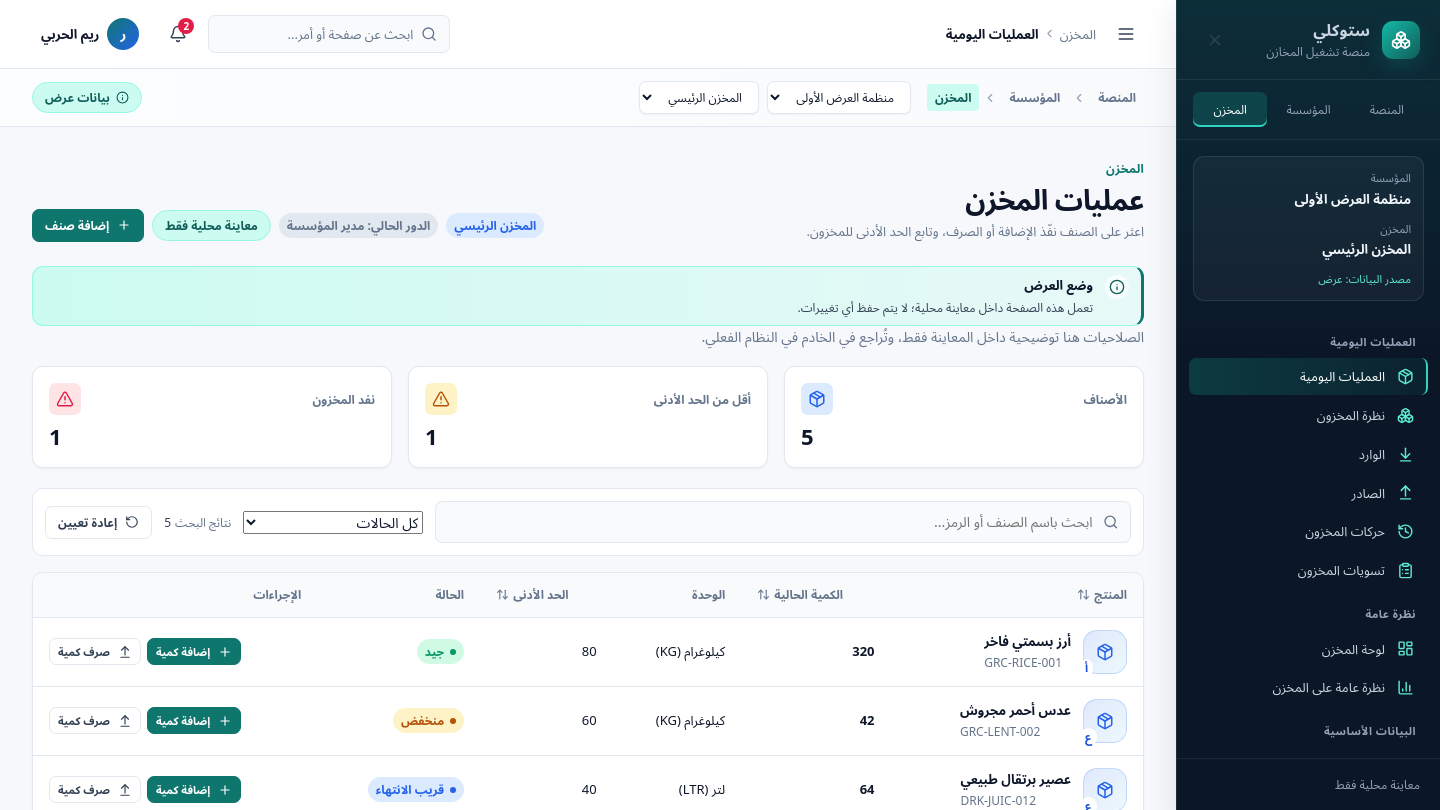
Test: warehouse operations and quick quantity › adds an item with an initial balance and minimum threshold
Step 1. Click the button "إضافة صنف" → (88, 225), box [32, 209, 144, 242]
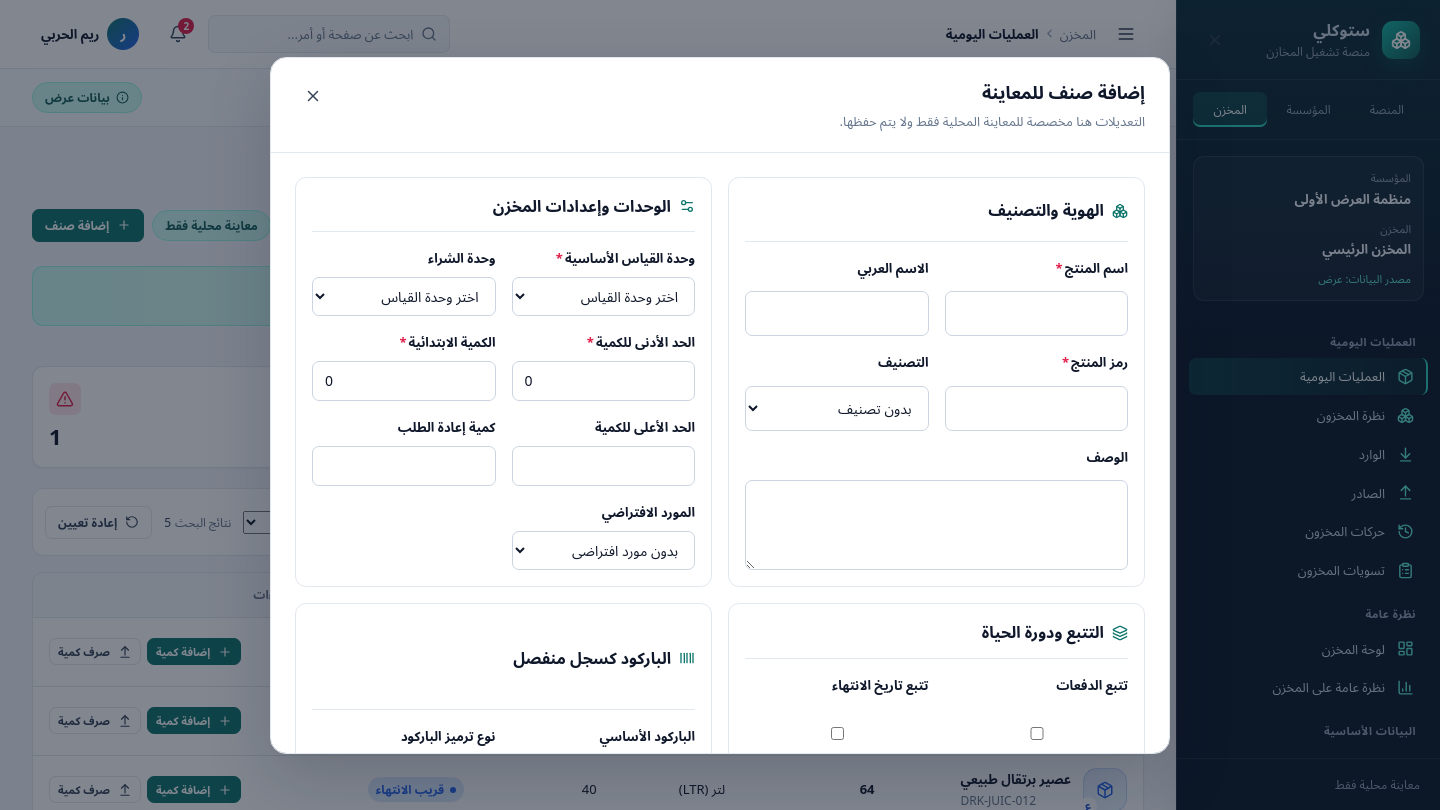
Step 2. Type "صنف اختبار سريع" into the field labelled "اسم المنتج*" → (1036, 313), box [944, 291, 1128, 336]
Step 3. Type "TEST-ITEM-900" into the field labelled "رمز المنتج*" → (1036, 408), box [944, 385, 1128, 430]
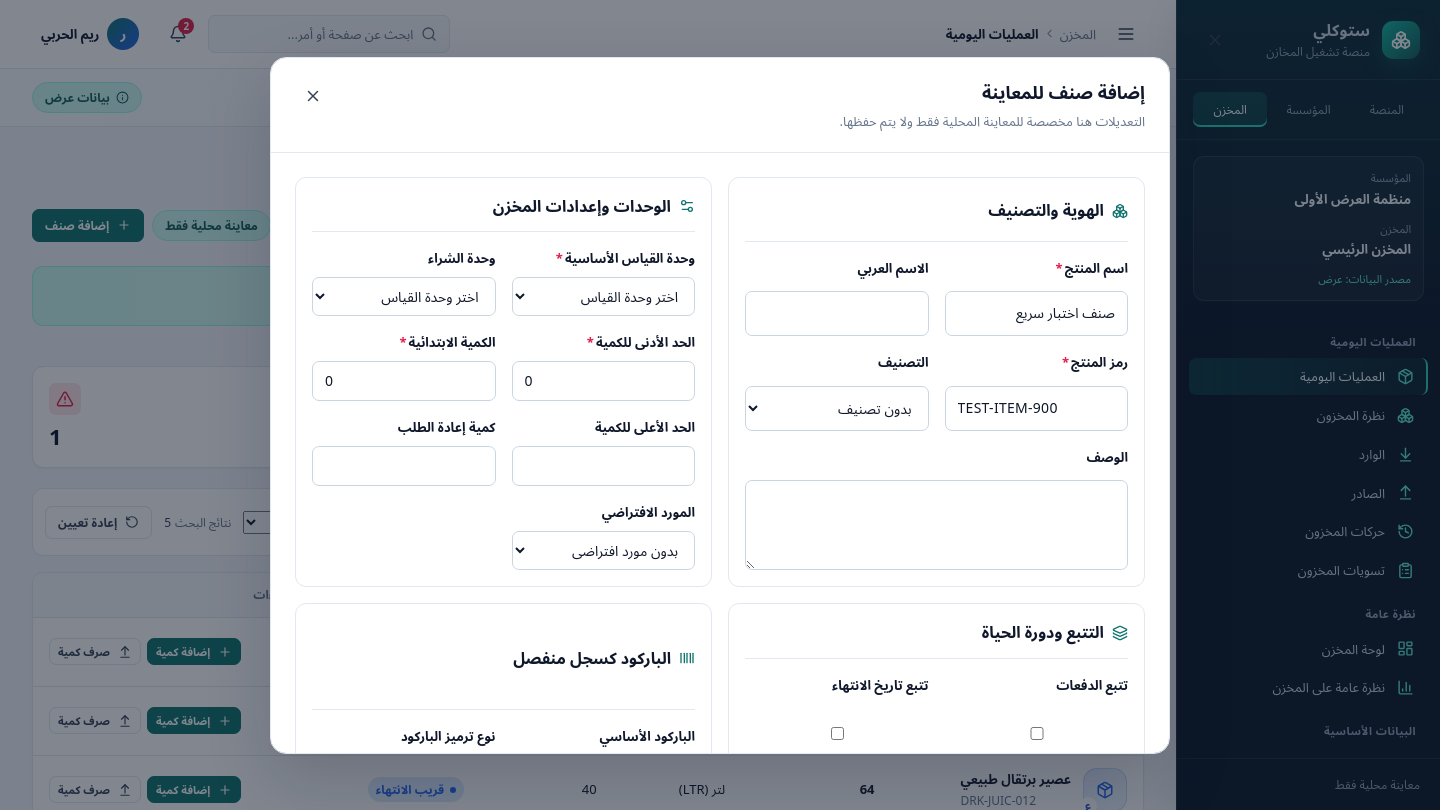
Step 4. Select "قطعة (PCS)" in the dropdown labelled "وحدة القياس الأساسية*" → (603, 296), box [512, 277, 695, 316]
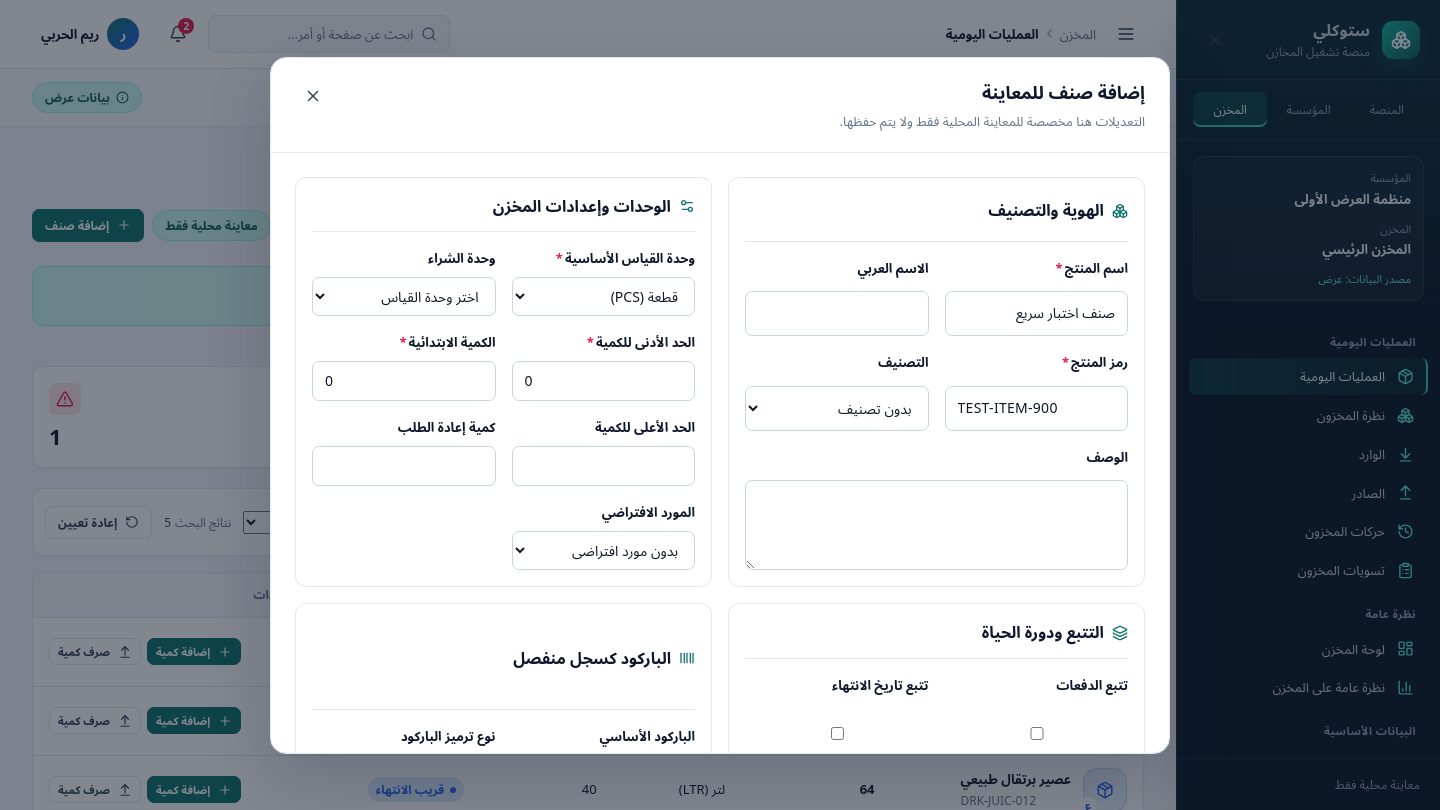
Step 5. Replace the text in the number field labelled "الحد الأدنى للكمية*" with "5" → (603, 381), box [512, 360, 695, 401]
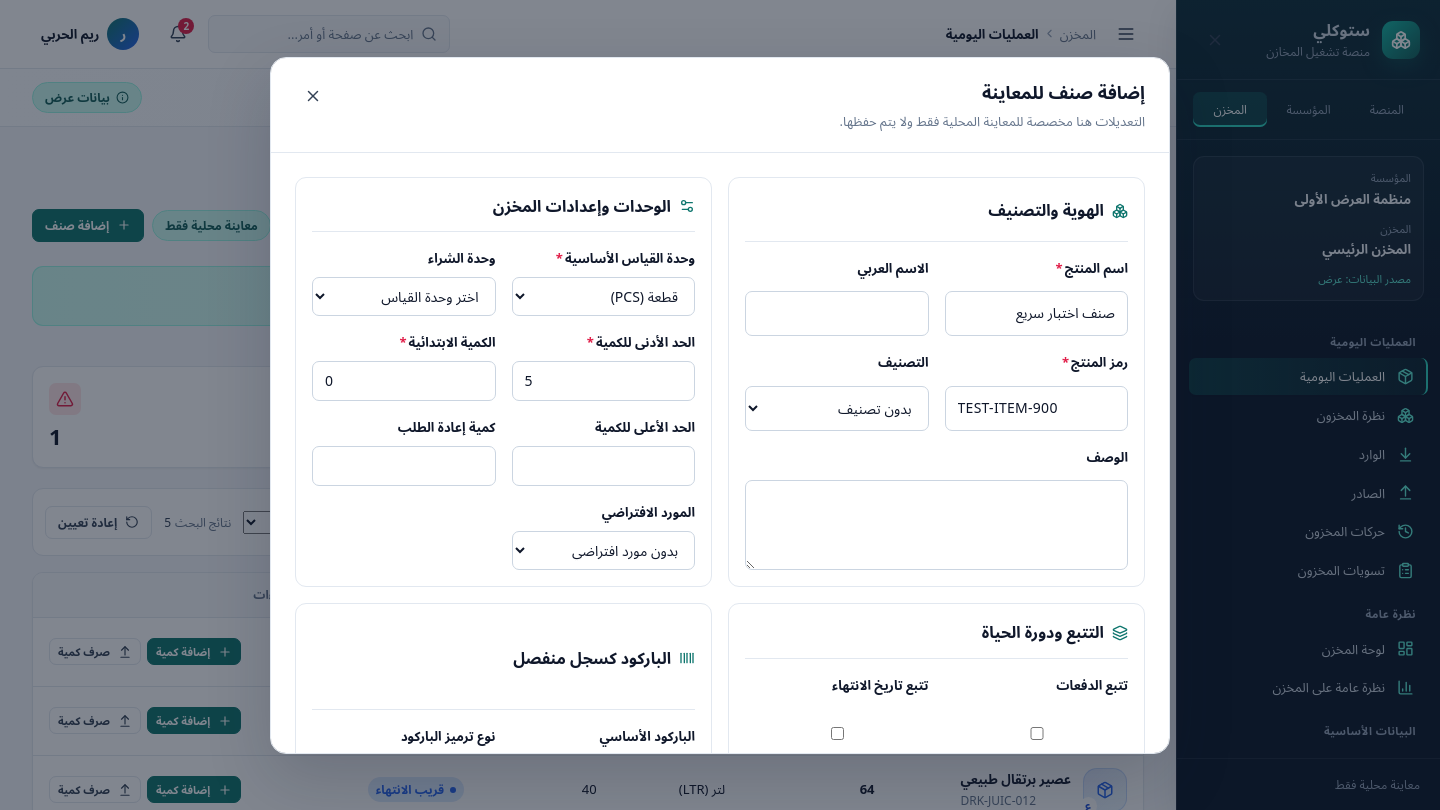
Step 6. Replace the text in the number field labelled "الكمية الابتدائية*" with "3" → (404, 381), box [312, 360, 496, 401]
(page scrolled)
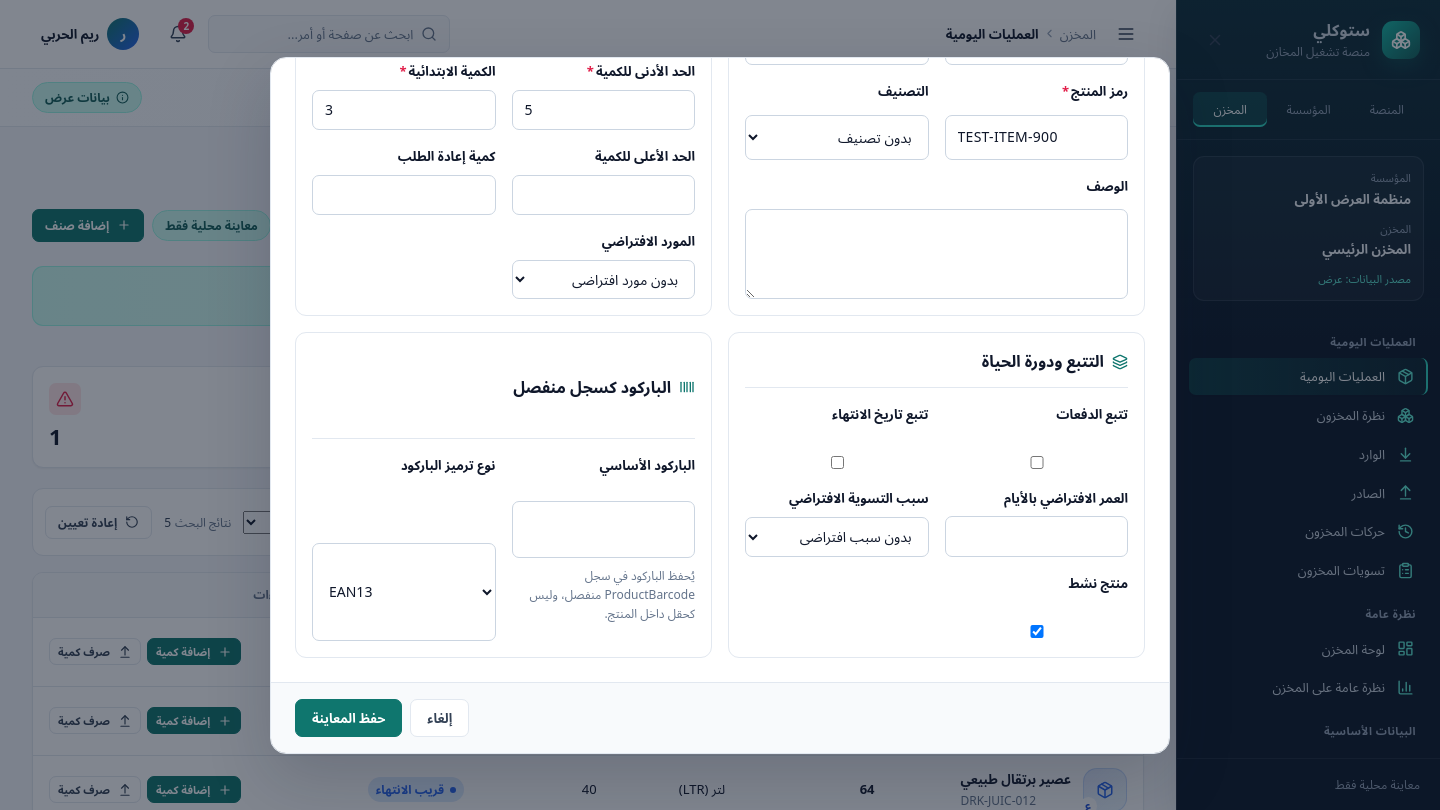
Step 7. Click the button "حفظ المعاينة" → (349, 718), box [295, 698, 402, 737]
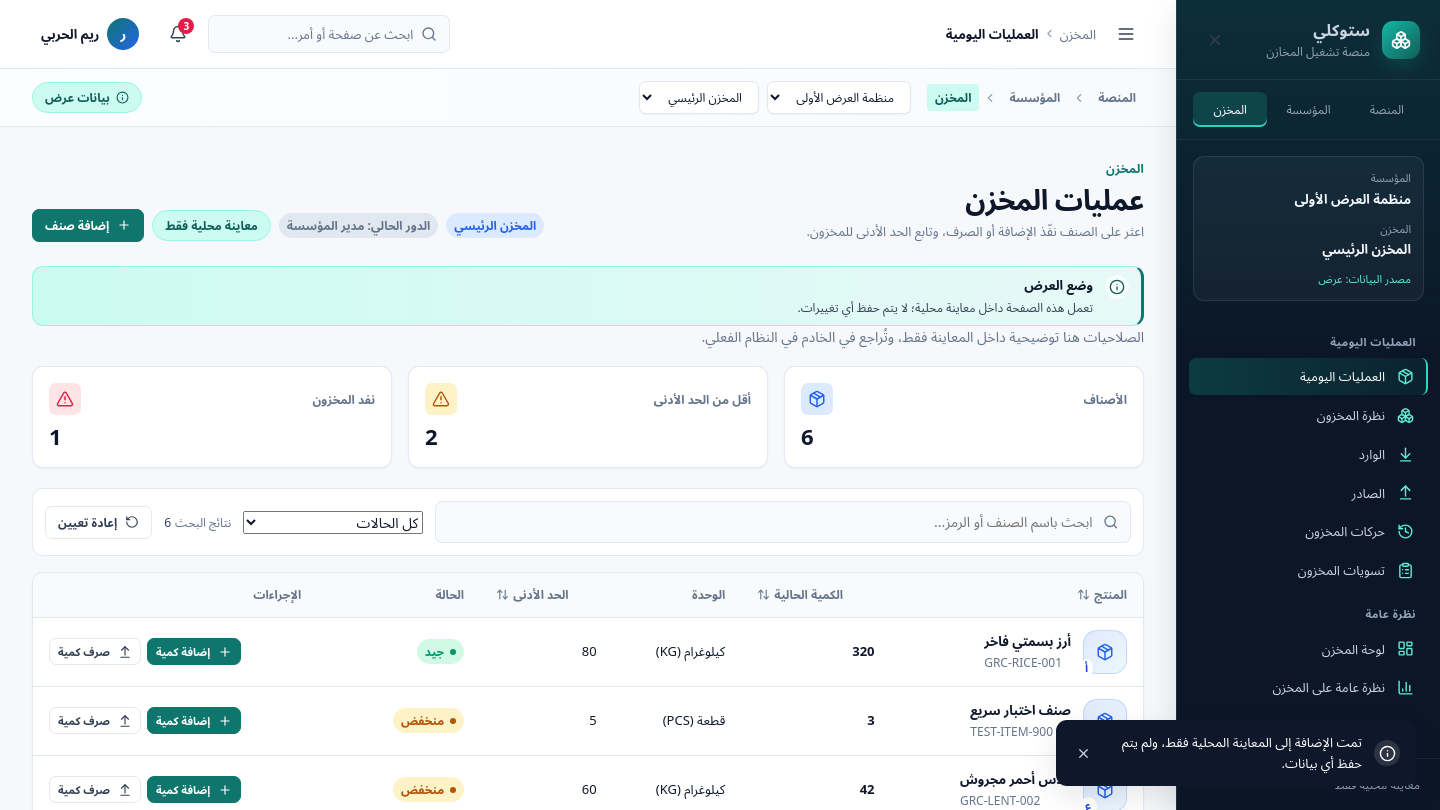
Expected: the text "5" is shown, [589, 711, 597, 729]
Now the text "صنف اختبار سريع" is shown, box [970, 700, 1071, 720]
Now the text "3" is shown, box [867, 711, 874, 729]
